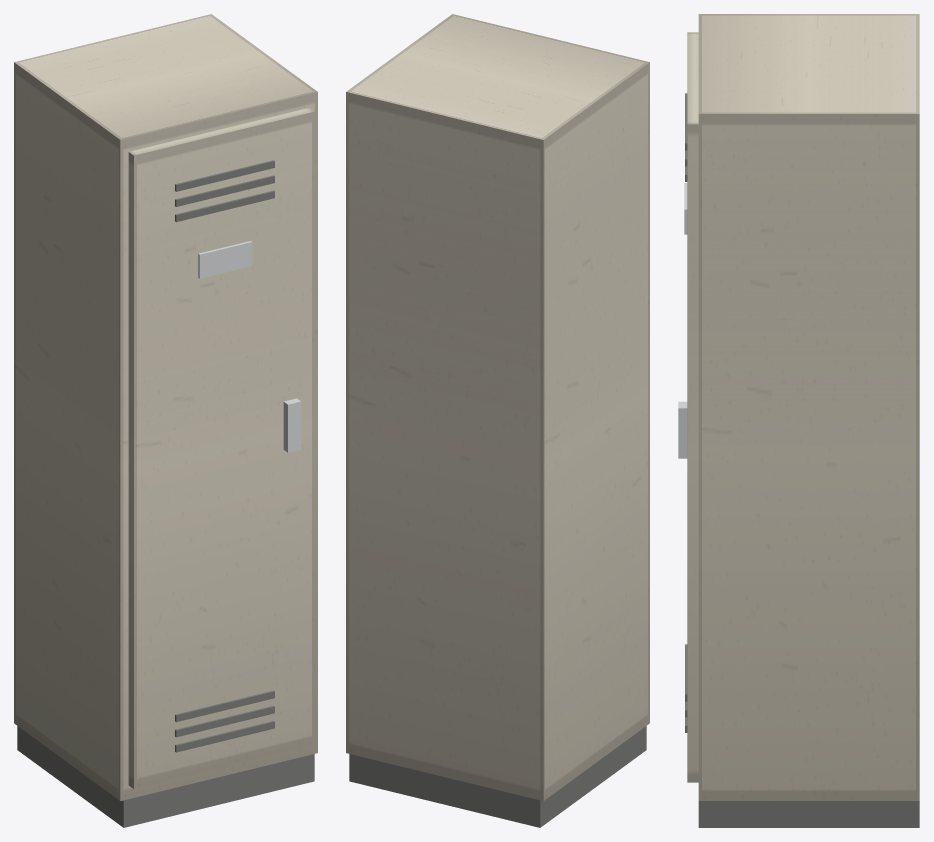
Rendered from locker_small.glb.
3 views of the same model, side by side, from view 1: azimuth 30°, elevation 25°; view 2: azimuth 150°, elevation 25°; view 3: azimuth 270°, elevation 25° (orthographic). The views are drawn at different scales.
Visible parts, largest first — view 1: locker_small; view 2: locker_small; view 3: locker_small.
Boxes of the visible parts, x1,y1,x2,y2 form: locker_small: [14, 14, 317, 827]; locker_small: [346, 14, 649, 827]; locker_small: [678, 14, 919, 827].
Bounding box in the file's own units: 0.3 × 1 × 0.3055.
3 materials, 1 textured.
